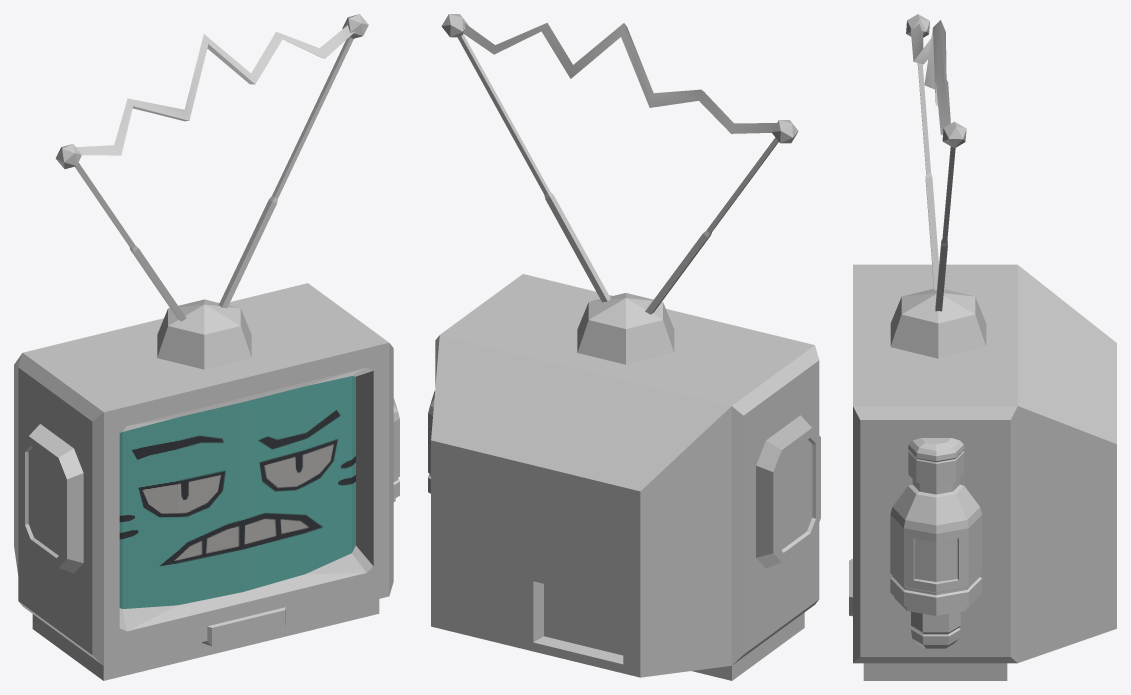
File: SM_Prop_Vendor_TV_01.fbx
3 views of the same model, side by side, from view 1: azimuth 30°, elevation 25°; view 2: azimuth 150°, elevation 25°; view 3: azimuth 270°, elevation 25° (orthographic). The views are drawn at different scales.
Visible parts, largest first — view 1: SM_Prop_Vendor_TV_01; view 2: SM_Prop_Vendor_TV_01; view 3: SM_Prop_Vendor_TV_01.
Boxes of the visible parts, x1,y1,x2,y2 form: SM_Prop_Vendor_TV_01: [14, 14, 399, 680]; SM_Prop_Vendor_TV_01: [428, 14, 820, 680]; SM_Prop_Vendor_TV_01: [849, 14, 1116, 680].
Size of the model in its own units: 78.93 by 125 by 51.04.
